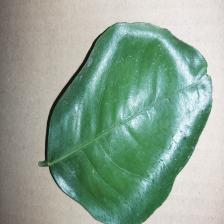healthy: (45, 20, 215, 224)
